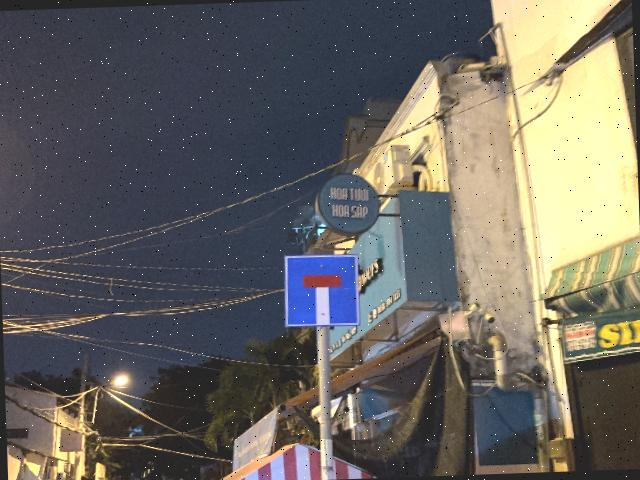duong-cut: (283, 253, 360, 328)
